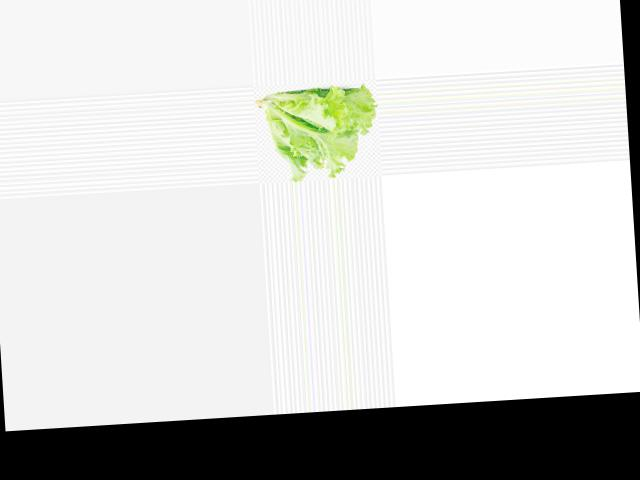lettuce: (253, 86, 380, 183)
